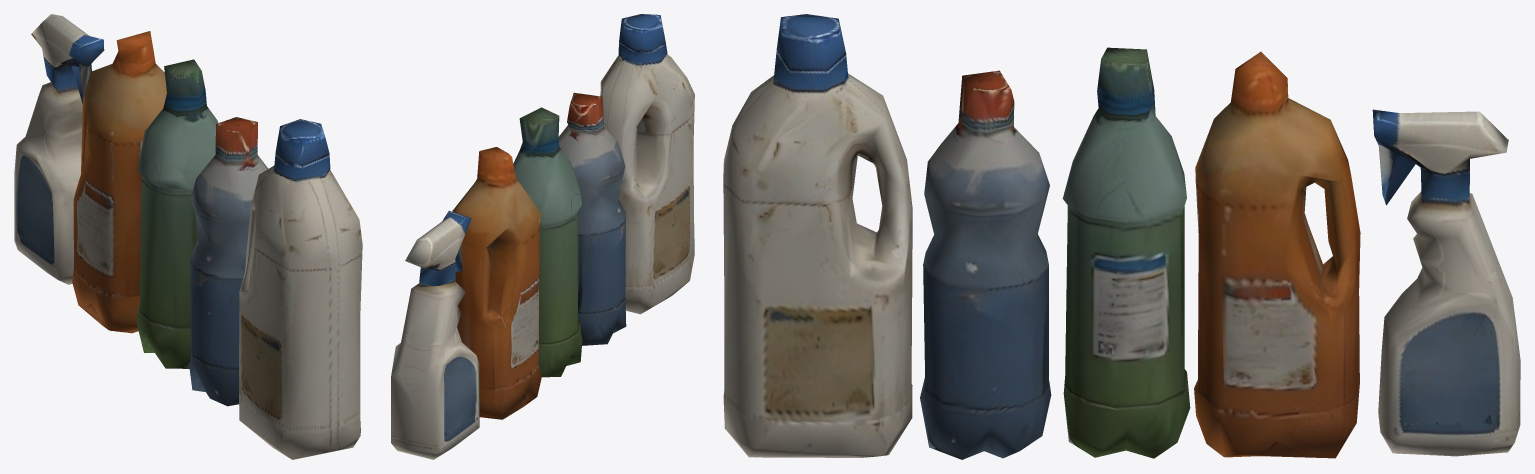
The model's file is tripo_convert_49ff0c4e-ba74-488e-8c09-e058f2154adc.fbx.
The picture shows the model from 3 angles, left to right: view 1: azimuth 30°, elevation 25°; view 2: azimuth 150°, elevation 25°; view 3: azimuth 270°, elevation 25°; orthographic projection. The views are drawn at different scales.
Visible parts, largest first — view 1: tripo_node_49ff0c4e; view 2: tripo_node_49ff0c4e; view 3: tripo_node_49ff0c4e.
Part boxes in pixels (<box>): tripo_node_49ff0c4e: <box>14,14,362,459</box>; tripo_node_49ff0c4e: <box>391,14,694,459</box>; tripo_node_49ff0c4e: <box>723,14,1520,459</box>.
Size of the model in its own units: 0.1647 by 0.5797 by 0.9987.
1 material, 1 textured.
